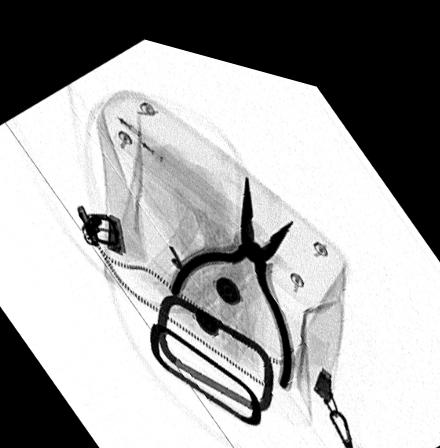Pliers: (169, 160, 296, 371)
